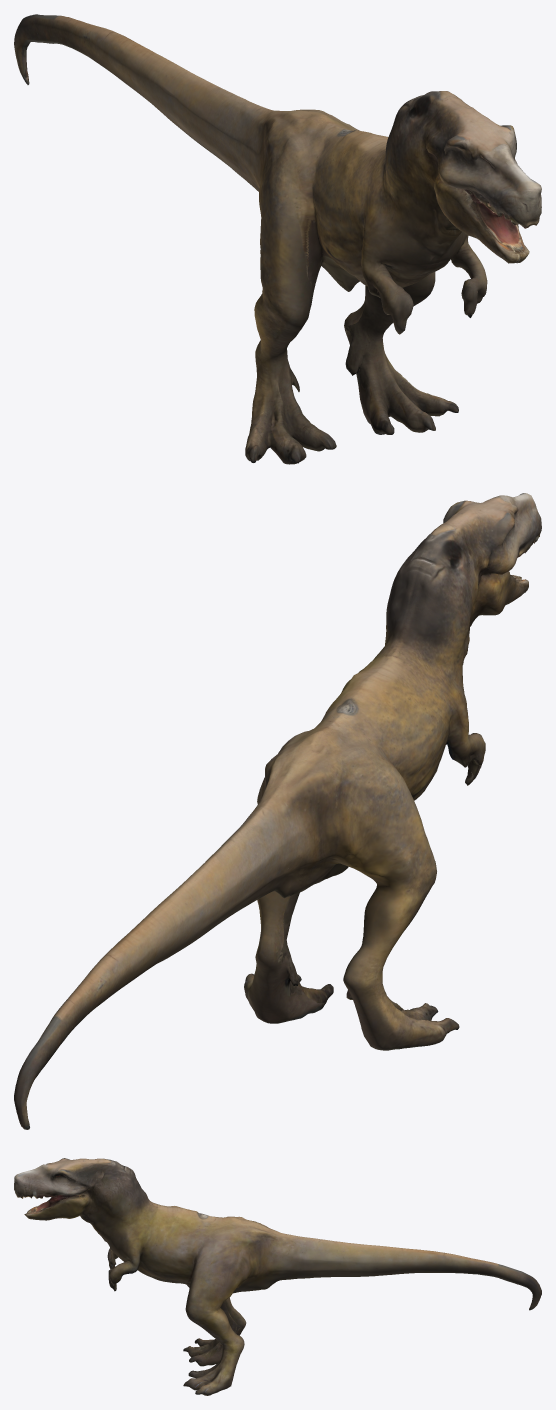
Rendered from Tyrannosaurus_Rex_0717225203_texture.fbx.
3 views of the same model, one above another, from view 1: azimuth 30°, elevation 25°; view 2: azimuth 150°, elevation 25°; view 3: azimuth 270°, elevation 25° (orthographic). The views are drawn at different scales.
Parts seen in each view (by area): view 1: Mesh_0; view 2: Mesh_0; view 3: Mesh_0.
Part boxes in pixels (<box>): Mesh_0: <box>14,14,541,464</box>; Mesh_0: <box>14,493,541,1129</box>; Mesh_0: <box>14,1158,541,1395</box>.
Bounding box in the file's own units: 46.46 × 89.49 × 199.
Materials: 1 (1 with a texture image).
